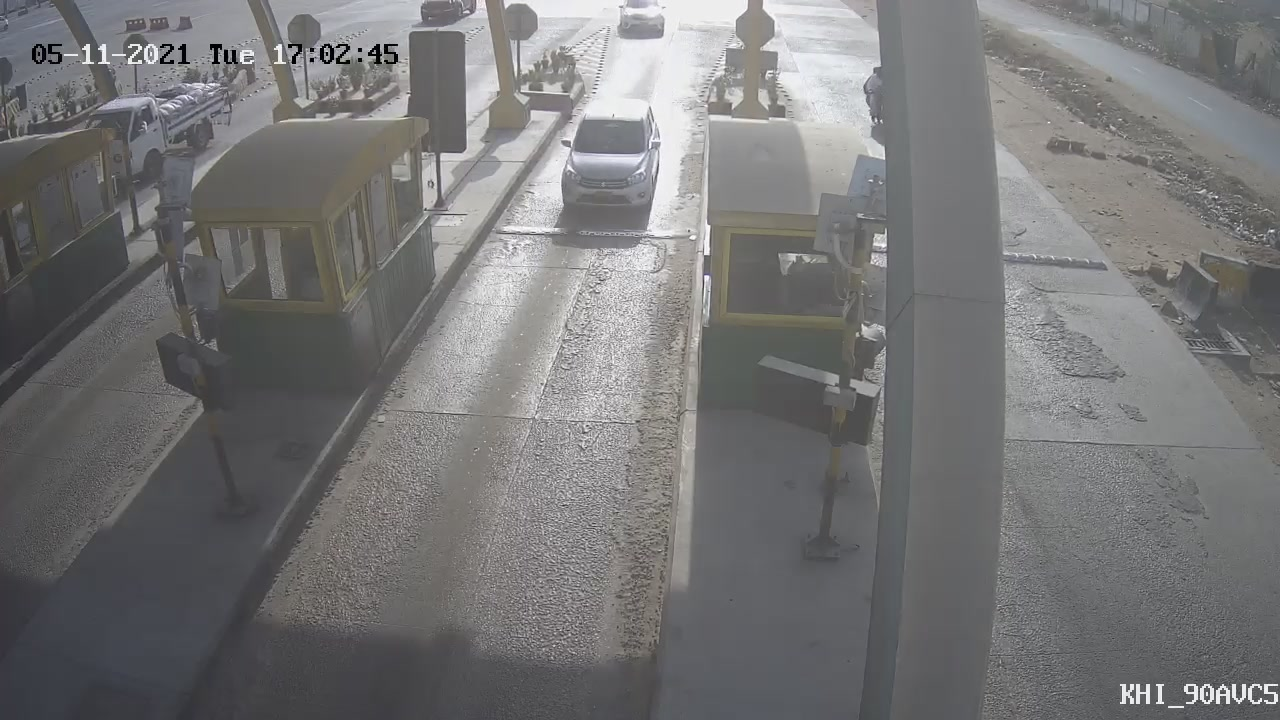F1: (534, 82, 683, 235)
